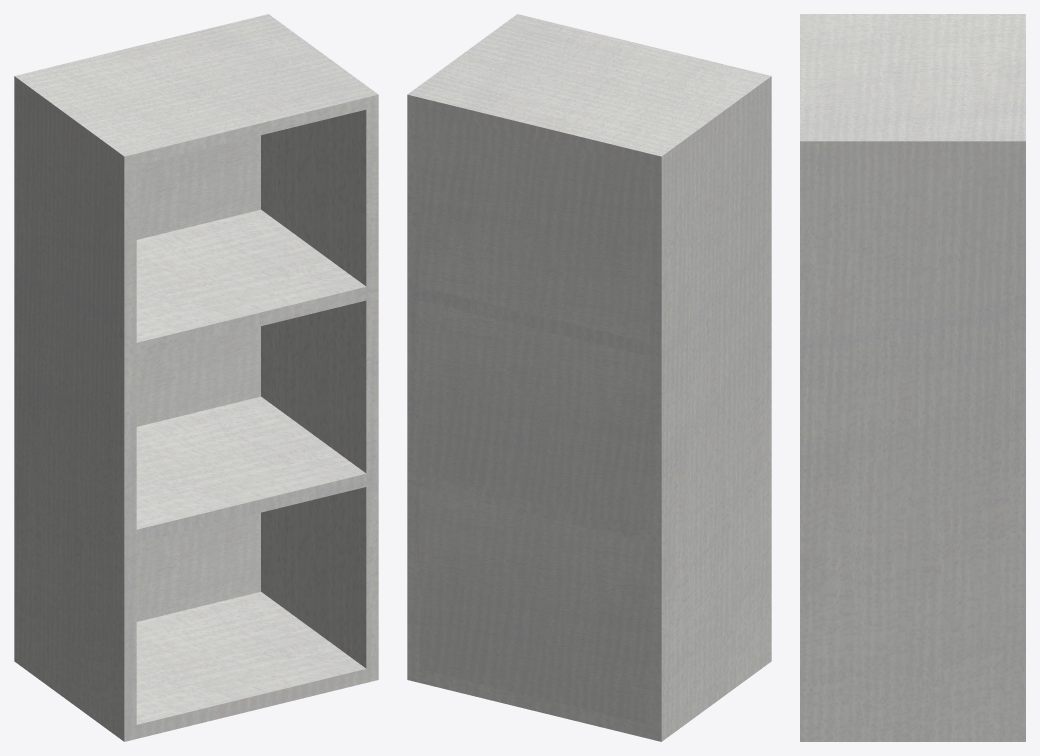
Rendered from storageBox.gltf.
3 renders of one model, left to right at view 1: azimuth 30°, elevation 25°; view 2: azimuth 150°, elevation 25°; view 3: azimuth 270°, elevation 25°, orthographic. The views are drawn at different scales.
Parts seen in each view (by area): view 1: storageBox; view 2: storageBox; view 3: storageBox.
Boxes of the visible parts, x1,y1,x2,y2 form: storageBox: (14,14,378,741); storageBox: (407,14,771,741); storageBox: (800,14,1025,741).
Size of the model in its own units: 0.4 by 0.88 by 0.3.
1 material, 1 textured.
